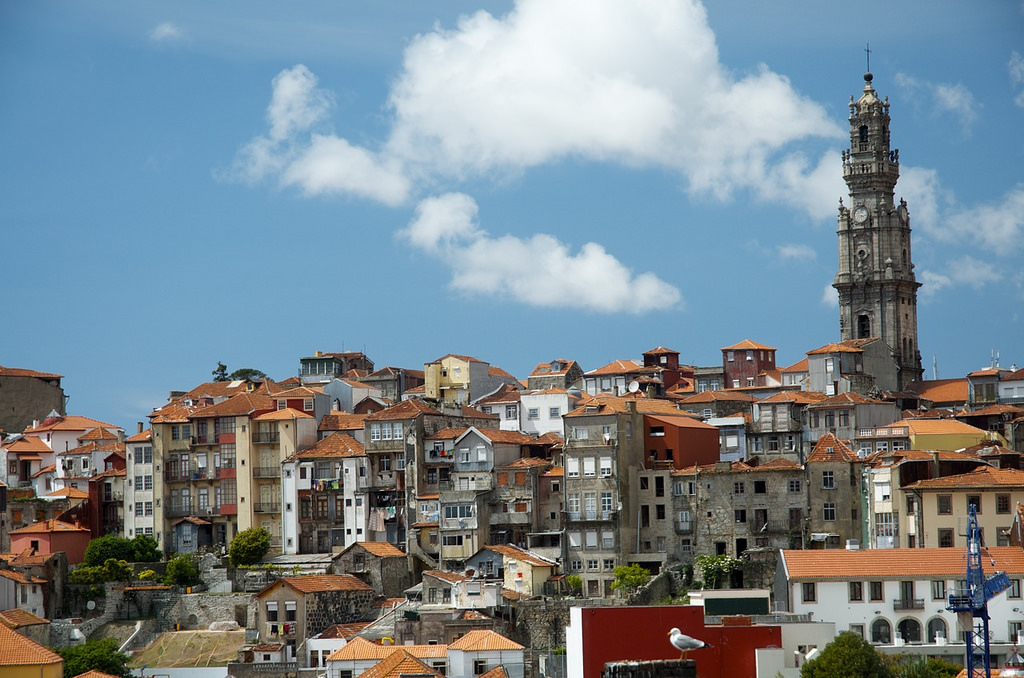clerigos: (829, 39, 926, 382)
